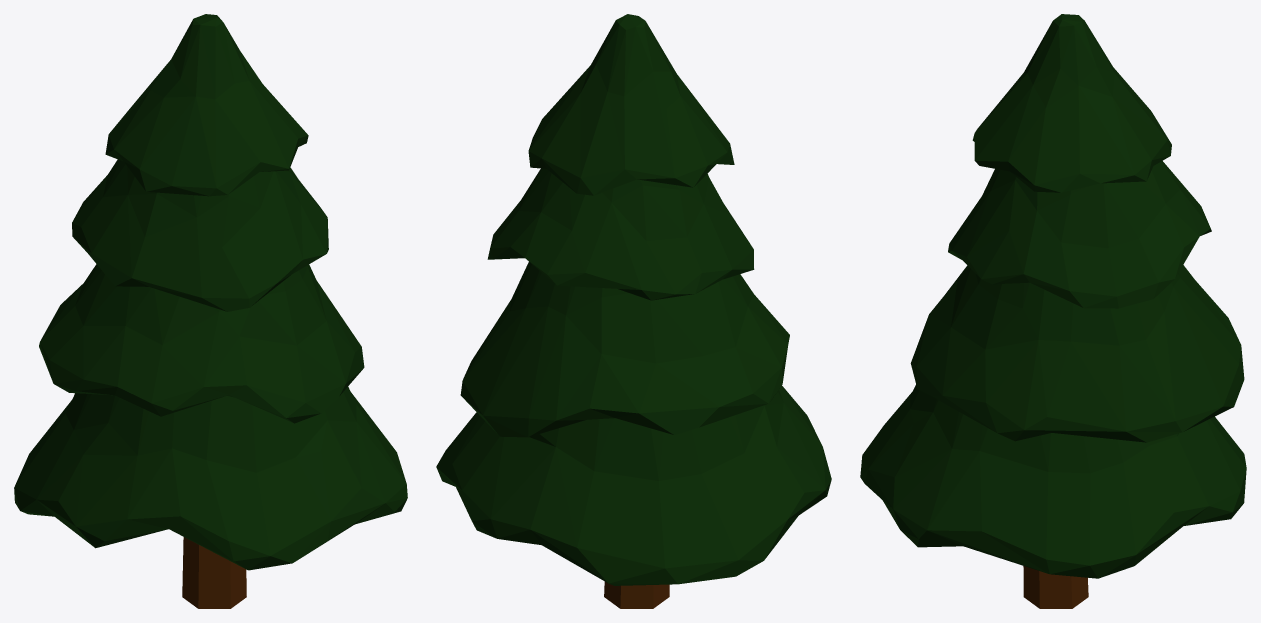
File: tree4.glb
3 views of the same model, side by side, from view 1: azimuth 30°, elevation 25°; view 2: azimuth 150°, elevation 25°; view 3: azimuth 270°, elevation 25° (orthographic).
Parts seen in each view (by area): view 1: Cylinder.005, Cylinder.004; view 2: Cylinder.005, Cylinder.004; view 3: Cylinder.005, Cylinder.004.
Part boxes in pixels (x1,y1,x2,y2): Cylinder.005: (14,14,407,570); Cylinder.004: (182,537,246,608); Cylinder.005: (436,14,831,585); Cylinder.004: (604,581,669,608); Cylinder.005: (860,14,1246,578); Cylinder.004: (1023,566,1088,608).
Size of the model in its own units: 11.98 by 19.67 by 11.87.
